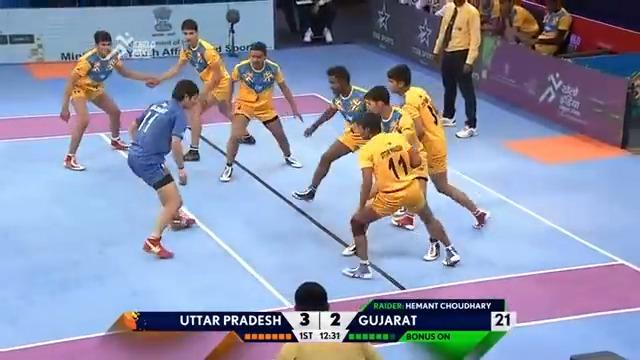Player: (340, 111, 460, 279), (385, 63, 490, 232), (145, 18, 255, 162), (59, 29, 158, 171), (218, 40, 304, 182), (291, 65, 378, 202)
Raider: (126, 79, 201, 259)
referee: (430, 0, 482, 138)
